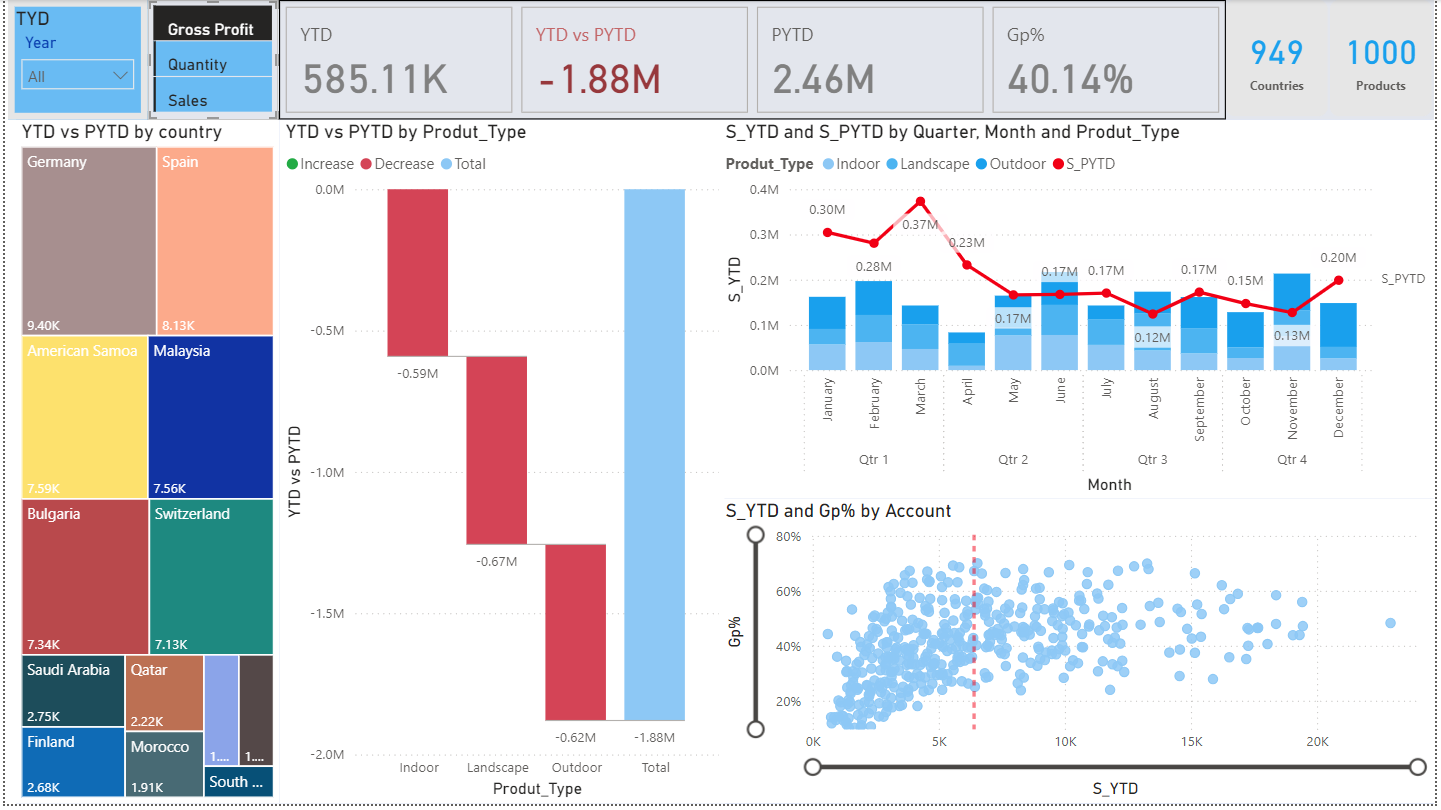

This screenshot's page, from the dashboard's own definition file:
{"tool":"powerbi","page":{"name":"Page 1","canvas":[1280,720],"ordinal":0},"visuals":[{"type":"shape","box":[9.9,0,1269.9,720],"z":0},{"type":"shape","box":[9.9,0,1269.9,107.5],"z":1000},{"type":"cardVisual","fields":{"Data":["_Measure.S_YTD","_Measure.YTD vs PYTD","_Measure.S_PYTD","_Measure.Gp%"]},"box":[245.4,0,848.1,107.5],"z":2000},{"type":"advancedSlicerVisual","title":"YTD","fields":{"Values":["Slc_Values.Values"]},"box":[128.1,0,116.4,107.5],"z":5000},{"type":"slicer","title":"TYD","fields":{"Values":["Dim_Date.Date.Variation.Date Hierarchy.Year"]},"box":[2.7,0,125.4,107.5],"z":6000},{"type":"treemap","fields":{"Values":["_Measure.YTD vs PYTD"],"Group":["Dim_Accounts.country"]},"box":[10.2,107.7,235.7,611.6],"z":7000},{"type":"waterfallChart","fields":{"Y":["_Measure.YTD vs PYTD"],"Category":["Dim_Date.Date.Variation.Date Hierarchy.Month","Dim_Accounts.country","Dim_Product.Produt_Type","Dim_Product.Product_Name"]},"box":[245.8,107.7,398.2,611.6],"z":8000},{"type":"lineStackedColumnComboChart","fields":{"Category":["Dim_Date.Date.Variation.Date Hierarchy.Quarter","Dim_Date.Date.Variation.Date Hierarchy.Month"],"Y2":["_Measure.S_PYTD"],"Y":["_Measure.S_YTD"],"Series":["Dim_Product.Produt_Type"]},"box":[640,107.7,640,339.3],"z":9000},{"type":"scatterChart","fields":{"Y":["_Measure.Gp%"],"X":["_Measure.S_YTD"],"Category":["Dim_Accounts.Account"]},"box":[640,447,640,272.3],"z":9001},{"type":"card","fields":{"Values":["CountNonNull(Dim_Accounts.country)"]},"box":[1093.4,0,91,104],"z":9002},{"type":"card","fields":{"Values":["CountNonNull(Dim_Product.Product_Name_id)"]},"box":[1186.6,0,91,104],"z":9003}]}

Visuals, with their boxes in screenshot pixels (x1, y1, x2, y2), scaled from the page's 1280x720 canvas onto the 1441x810 screenshot:
shape: <region>11, 0, 1440, 809</region>
shape: <region>11, 0, 1440, 121</region>
cardVisual - _Measure.S_YTD x _Measure.YTD vs PYTD: <region>276, 0, 1231, 121</region>
"YTD" advancedSlicerVisual: <region>144, 0, 275, 121</region>
"TYD" slicer: <region>3, 0, 144, 121</region>
treemap - _Measure.YTD vs PYTD x Dim_Accounts.country: <region>11, 121, 277, 809</region>
waterfallChart - _Measure.YTD vs PYTD x Dim_Date.Date.Variation.Date Hierarchy.Month: <region>277, 121, 725, 809</region>
lineStackedColumnComboChart - Dim_Date.Date.Variation.Date Hierarchy.Quarter x Dim_Date.Date.Variation.Date Hierarchy.Month: <region>720, 121, 1440, 503</region>
scatterChart - _Measure.Gp% x _Measure.S_YTD: <region>720, 503, 1440, 809</region>
card - CountNonNull(Dim_Accounts.country): <region>1231, 0, 1333, 117</region>
card - CountNonNull(Dim_Product.Product_Name_id): <region>1336, 0, 1438, 117</region>
